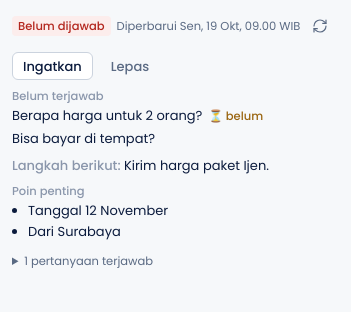
Test case: ChatReviewTab › 502 dari POST tampil inline, ringkasan lama tetap terlihat
The image size is (351, 312).
What coordinates should you click on to do the following:
click the button named "Perbarui sekarang"
I would click on:
 (320, 26)
Its box is [306, 12, 334, 40].
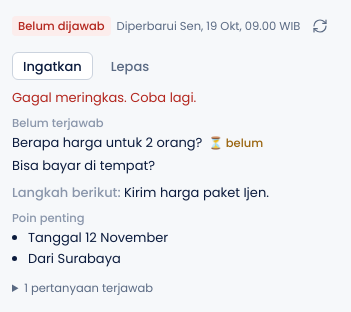
Expected: the text "Kirim harga paket Ijen." is shown, [124, 183, 269, 202]
Expected: the message reads "Gagal meringkas. Coba lagi.", [12, 88, 196, 107]
